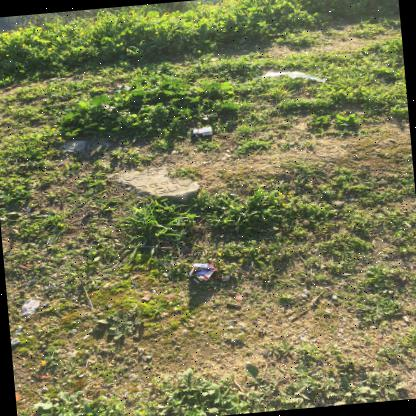Cigarette: (193, 279, 200, 284)
Other carton: (189, 264, 217, 281), (191, 126, 213, 137)
Plastic film: (262, 72, 326, 83)
